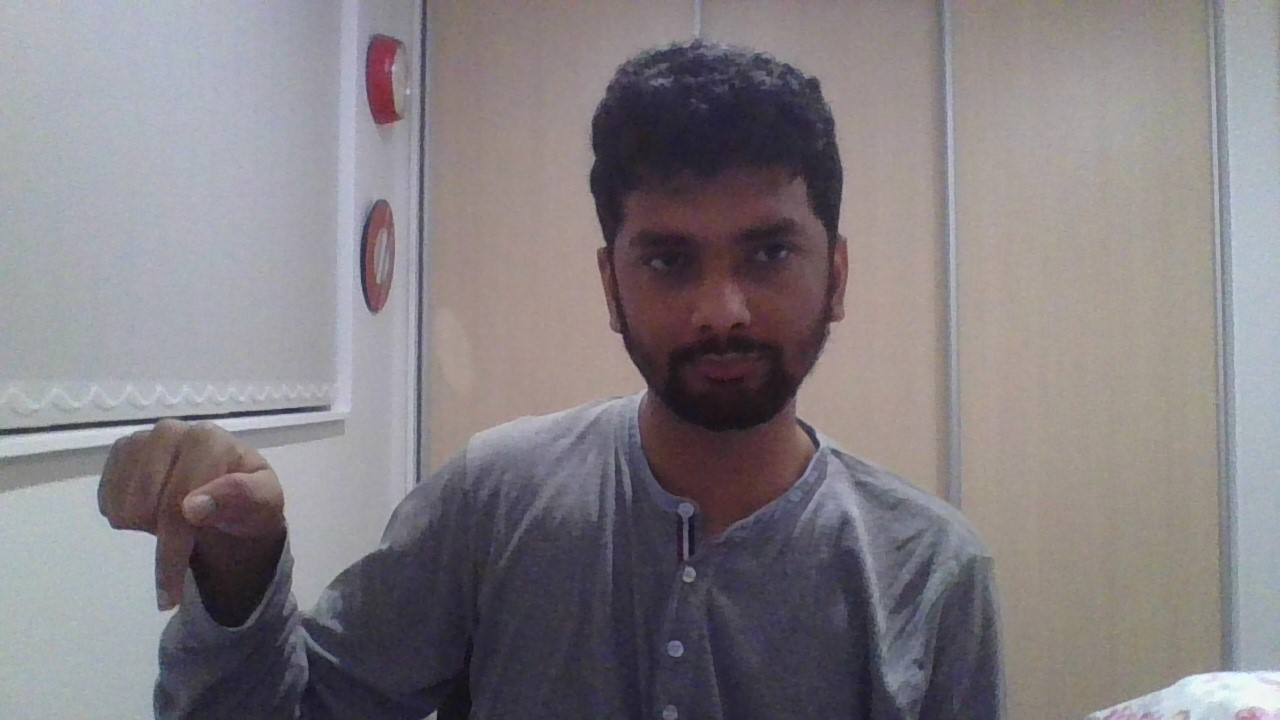below: (97, 418, 285, 612)
